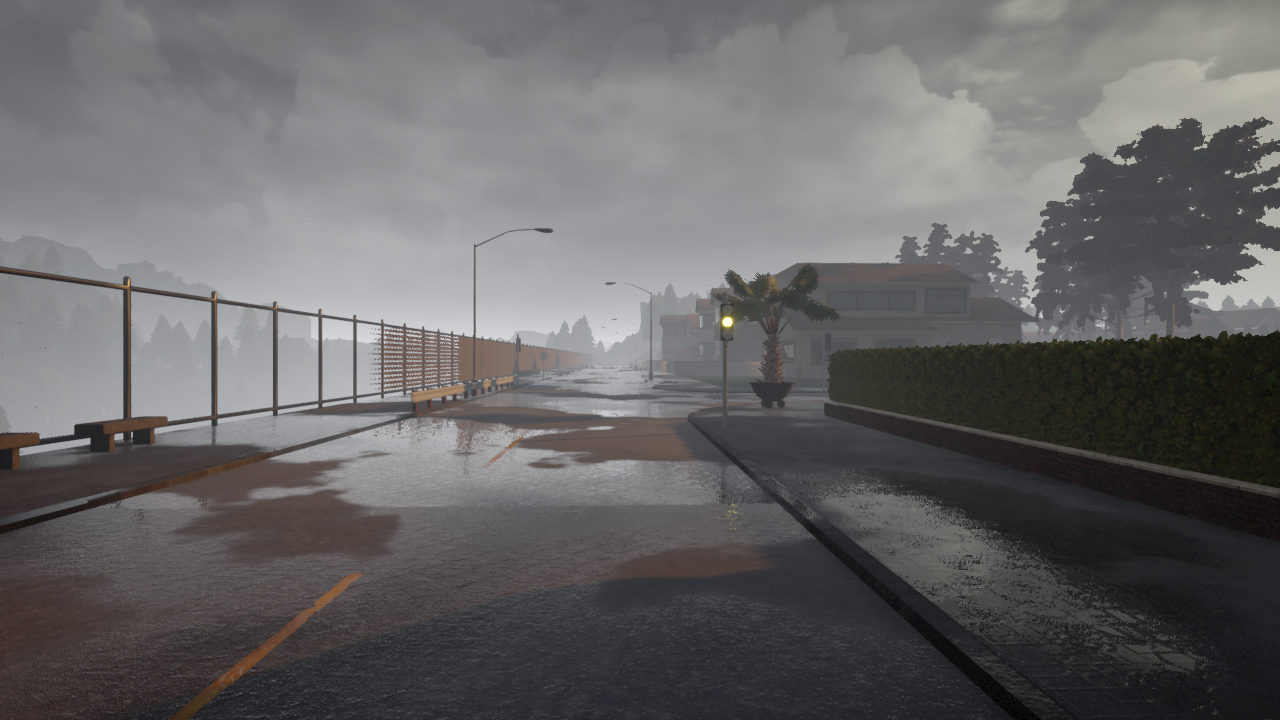yellow: (719, 301, 734, 342)
